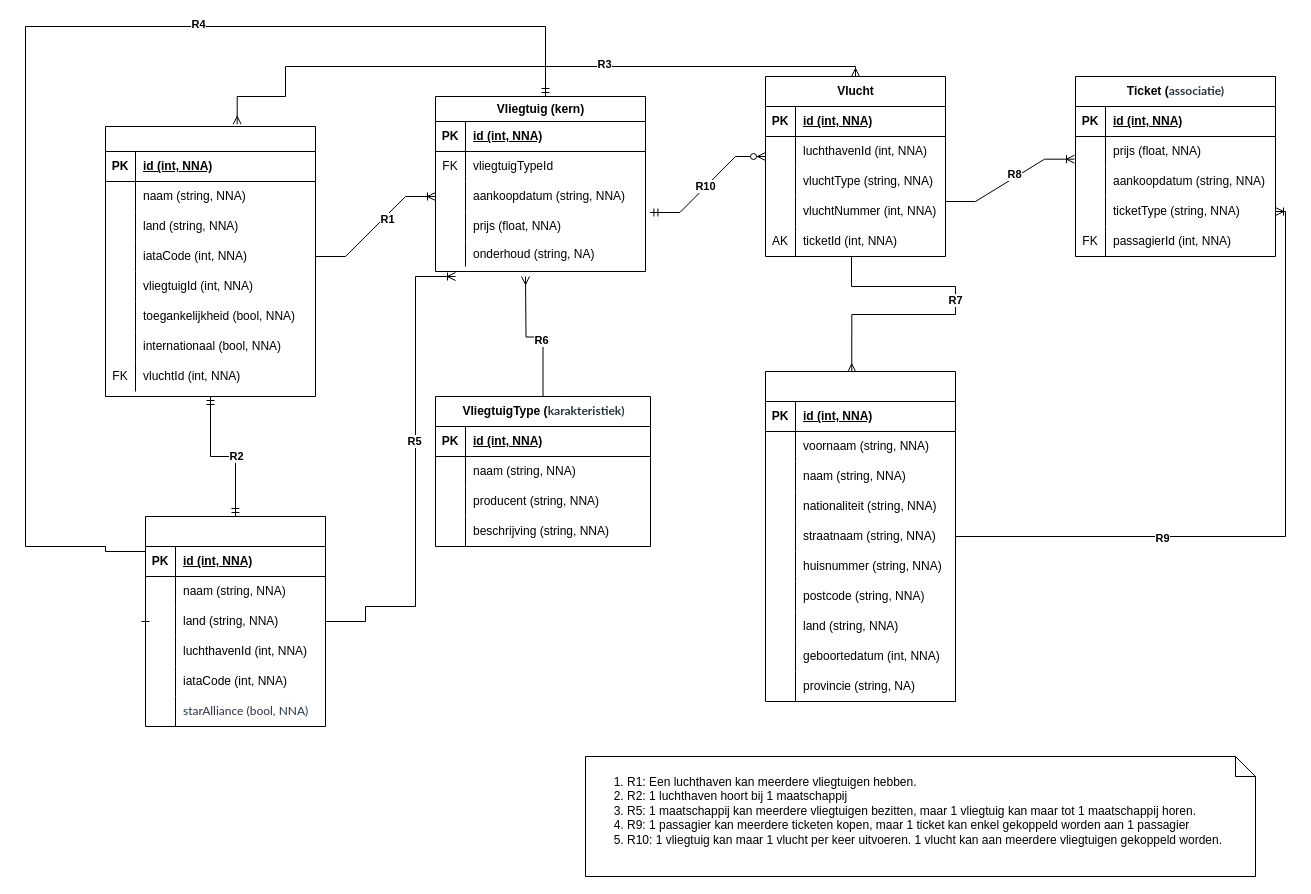
The diagram is 1311 pixels wide and 894 high, and some of its shapes have lost their labels. The shapes that lost their labels are listed below. From the top down, each one's box as (x1, y1, x2, y2) in pixels, then its label:
(104, 126, 316, 396): Luchthaven (kern)
(764, 370, 956, 702): Passagier
(144, 516, 326, 726): Maatschappij (kern)
